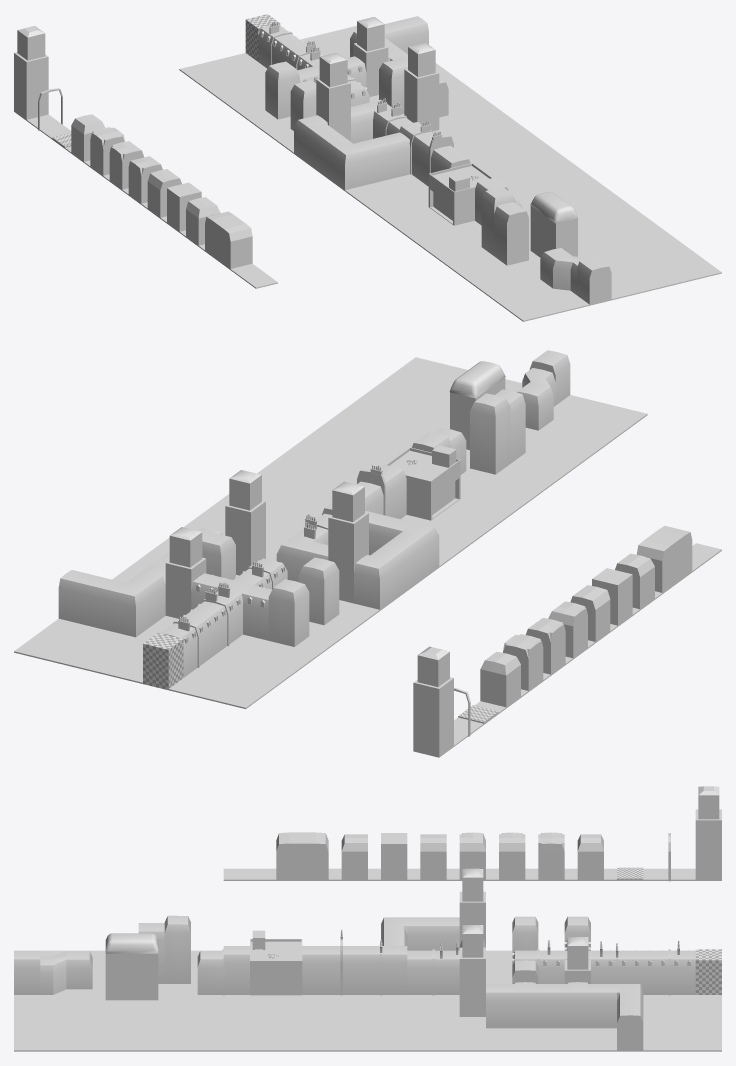
The model's file is Game Level block out.fbx.
3 renders of one model, top to bottom at view 1: azimuth 30°, elevation 25°; view 2: azimuth 150°, elevation 25°; view 3: azimuth 270°, elevation 25°, orthographic. The views are drawn at different scales.
Visible parts, largest first — view 1: Structure Tower #1.003, Structure Tower #1.001, Structure Tower #1, Structure_Sto, Structure_Str.026, Structure Tower #1.002, Structure_RouR, Structure_Wide.001, Structure_Nor.002, Structure_Cor.003, Structure_Str.025, Structure_Nor.003 (+26 smaller); view 2: Structure Tower #1.003, Structure Tower #1, Structure Tower #1.001, Structure_Sto, Structure_Nor.004, Structure Tower #1.002, Structure_Nor.002, Structure_Nor.001, Base_Structure.001, Structure_Cor.004, Structure_Cor.001, Structure_Nor (+28 smaller); view 3: Structure_Sto, Structure Tower #1.003, Structure Tower #1.001, Structure_Nor.004, Structure_RouR, Structure_RouR.001, Structure Tower #1, Structure_Str.018, Structure_Wide.001, Structure_Wide, Structure_CorT.002, Structure_Cro (+34 smaller).
Boxes of the visible parts, <box> form: Structure Tower #1.003: <box>14,26,48,119</box>; Structure Tower #1.001: <box>404,42,439,131</box>; Structure Tower #1: <box>316,52,350,141</box>; Structure_Sto: <box>428,163,492,225</box>; Structure_Str.026: <box>494,202,528,265</box>; Structure Tower #1.002: <box>353,17,388,96</box>; Structure_RouR: <box>543,199,578,256</box>; Structure_Wide.001: <box>217,219,252,268</box>; Structure_Nor.002: <box>265,61,299,119</box>; Structure_Cor.003: <box>332,142,366,190</box>; Structure_Str.025: <box>577,257,611,305</box>; Structure_Nor.003: <box>379,58,407,114</box>; Structure Tower #1.003: <box>413,646,453,756</box>; Structure Tower #1: <box>328,481,368,603</box>; Structure Tower #1.001: <box>225,470,265,575</box>; Structure_Sto: <box>386,447,460,520</box>; Structure_Nor.004: <box>470,393,510,474</box>; Structure Tower #1.002: <box>165,527,206,618</box>; Structure_Nor.002: <box>268,579,309,646</box>; Structure_Nor.001: <box>298,557,339,625</box>; Base_Structure.001: <box>143,633,183,690</box>; Structure_Cor.004: <box>354,554,394,610</box>; Structure_Cor.001: <box>110,582,150,637</box>; Structure_Nor: <box>480,651,520,707</box>; Structure_Sto: <box>250,939,302,995</box>; Structure Tower #1.003: <box>695,786,721,879</box>; Structure Tower #1.001: <box>459,925,485,1016</box>; Structure_Nor.004: <box>164,915,190,983</box>; Structure_RouR: <box>105,933,131,1000</box>; Structure_RouR.001: <box>132,933,158,1000</box>; Structure Tower #1: <box>459,868,485,945</box>; Structure_Str.018: <box>302,946,328,994</box>; Structure_Wide.001: <box>276,832,302,879</box>; Structure_Wide: <box>302,832,328,879</box>; Structure_CorT.002: <box>499,832,525,879</box>; Structure_Cro: <box>538,832,564,879</box>.
Size of the model in its own units: 3307 by 830 by 5400.
Materials: 3 (1 with a texture image).
